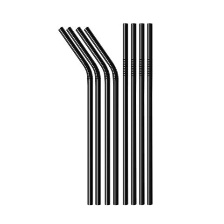drinking_straw: (145, 21, 158, 208)
